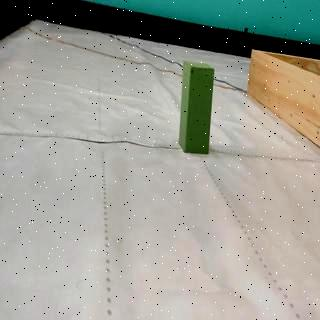greenbox: (181, 60, 216, 154)
